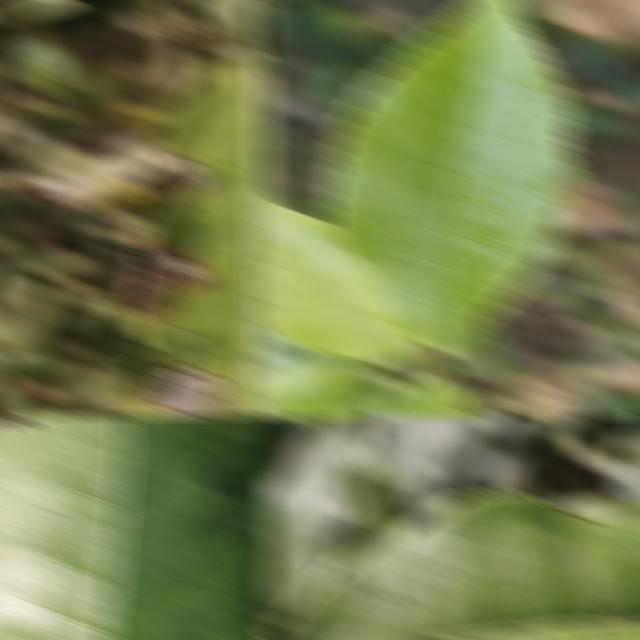Leaf: (324, 0, 577, 353), (0, 414, 274, 640), (264, 490, 640, 640), (122, 50, 274, 418), (262, 195, 428, 364), (262, 414, 374, 618), (371, 414, 495, 510), (262, 369, 372, 418), (268, 353, 360, 399), (12, 34, 71, 97), (191, 0, 257, 50), (556, 494, 640, 526)
